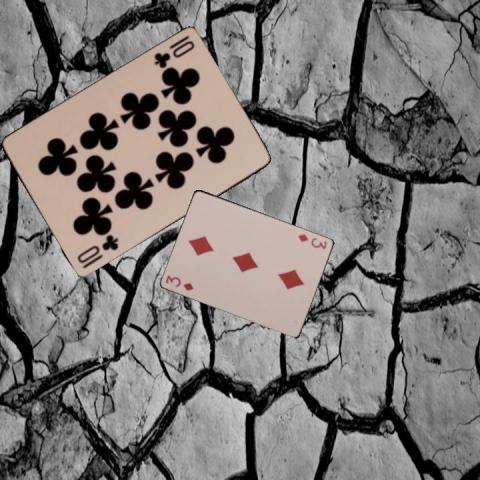10c: (74, 232, 120, 271), (151, 33, 196, 70)
3d: (295, 231, 329, 251), (163, 272, 195, 292)
